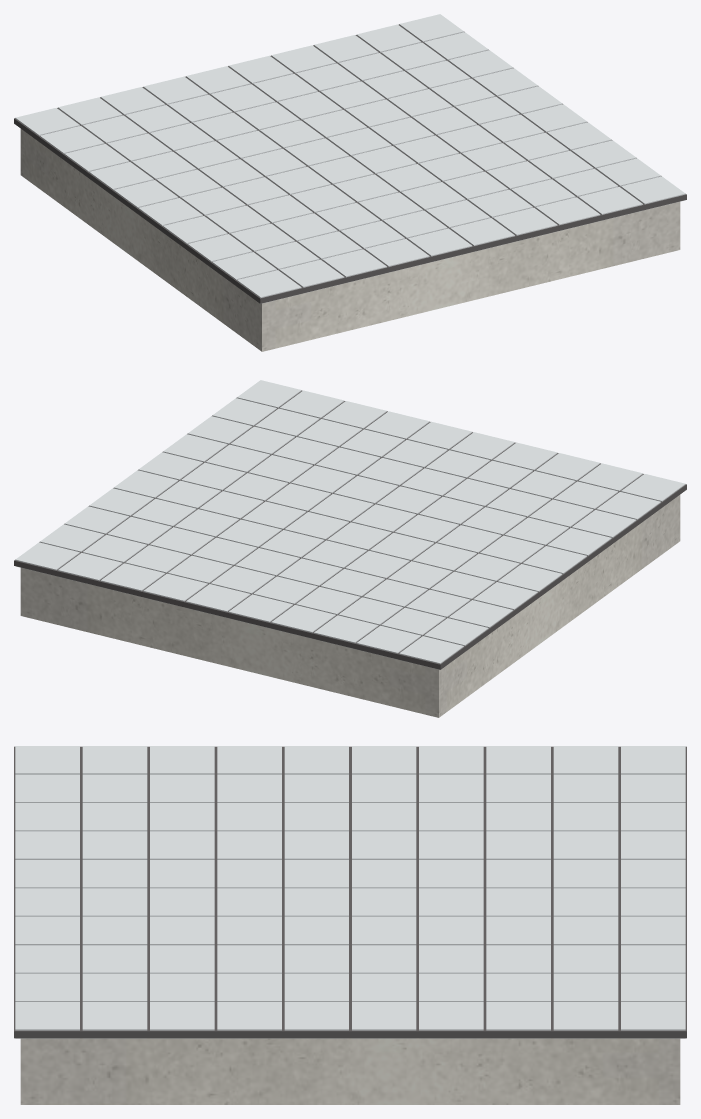
The model's file is floor_bath_u.glb.
3 renders of one model, top to bottom at view 1: azimuth 30°, elevation 25°; view 2: azimuth 150°, elevation 25°; view 3: azimuth 270°, elevation 25°, orthographic. The views are drawn at different scales.
Visible parts, largest first — view 1: floor_bath_u_tile, floor_bath_u_plaster, floor_bath_u_dark; view 2: floor_bath_u_tile, floor_bath_u_plaster, floor_bath_u_dark; view 3: floor_bath_u_tile, floor_bath_u_plaster, floor_bath_u_dark.
Part boxes in pixels (x1,y1,x2,y2): floor_bath_u_tile: [15, 14, 685, 303]; floor_bath_u_plaster: [20, 129, 680, 351]; floor_bath_u_dark: [14, 24, 686, 303]; floor_bath_u_tile: [15, 380, 685, 669]; floor_bath_u_plaster: [20, 495, 680, 717]; floor_bath_u_dark: [14, 390, 686, 669]; floor_bath_u_tile: [15, 746, 685, 1038]; floor_bath_u_plaster: [20, 1038, 680, 1104]; floor_bath_u_dark: [14, 746, 686, 1038].
Bounding box in the file's own units: 2 × 0.255 × 2.
Materials: 3 (1 with a texture image).
